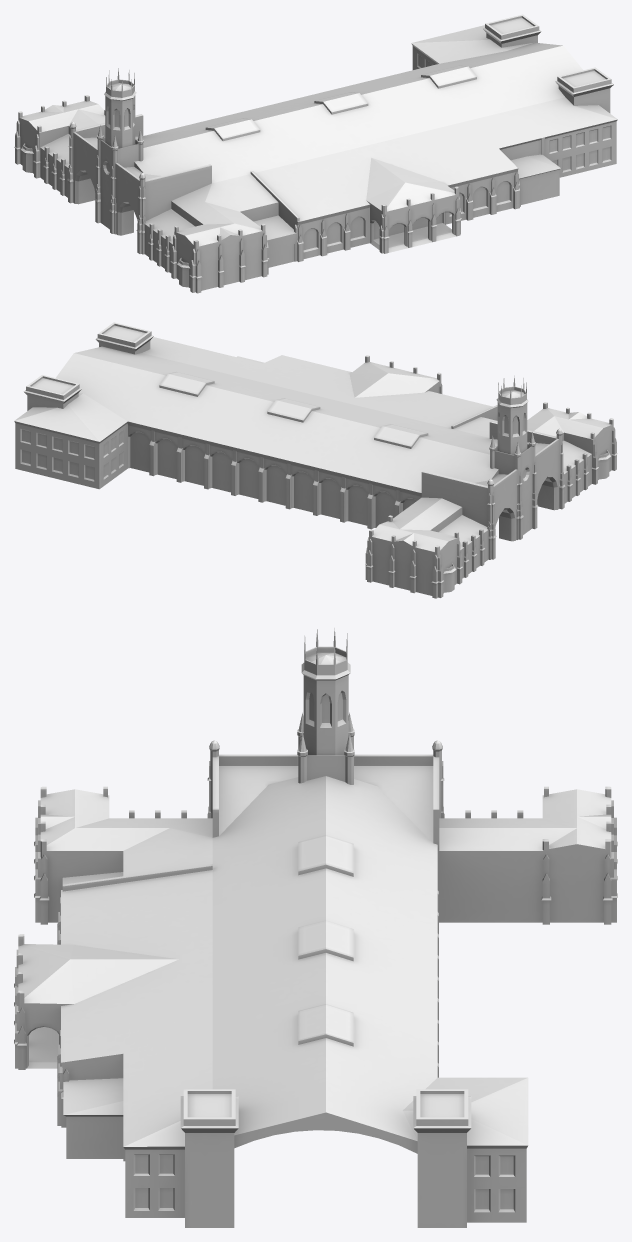
Rendered from newpetergovrws.dae.
3 renders of one model, top to bottom at view 1: azimuth 30°, elevation 25°; view 2: azimuth 150°, elevation 25°; view 3: azimuth 270°, elevation 25°, orthographic. The views are drawn at different scales.
Visible parts, largest first — view 1: newpetergovrws; view 2: newpetergovrws; view 3: newpetergovrws.
Part boxes in pixels (bbox=[...]): newpetergovrws: bbox=[14, 14, 617, 293]; newpetergovrws: bbox=[14, 322, 617, 598]; newpetergovrws: bbox=[14, 628, 617, 1227].
Bounding box in the file's own units: 0.1624 × 0.113 × 0.05.
1 material, 1 textured.
